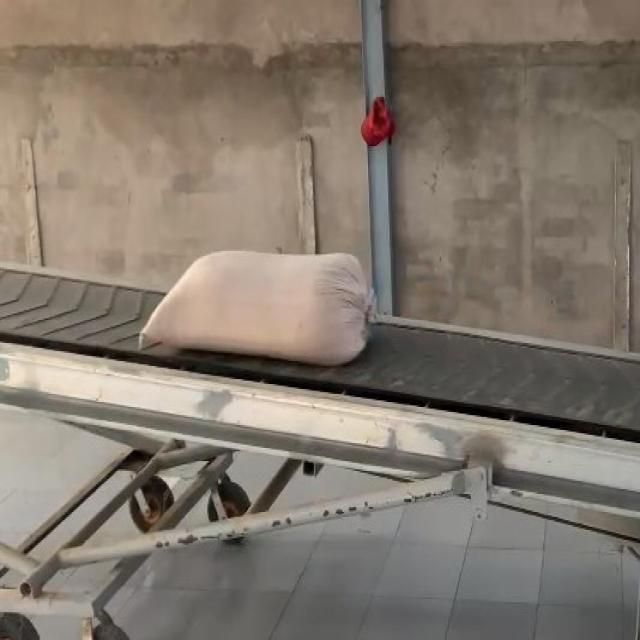gunny_bag: (139, 253, 370, 365)
